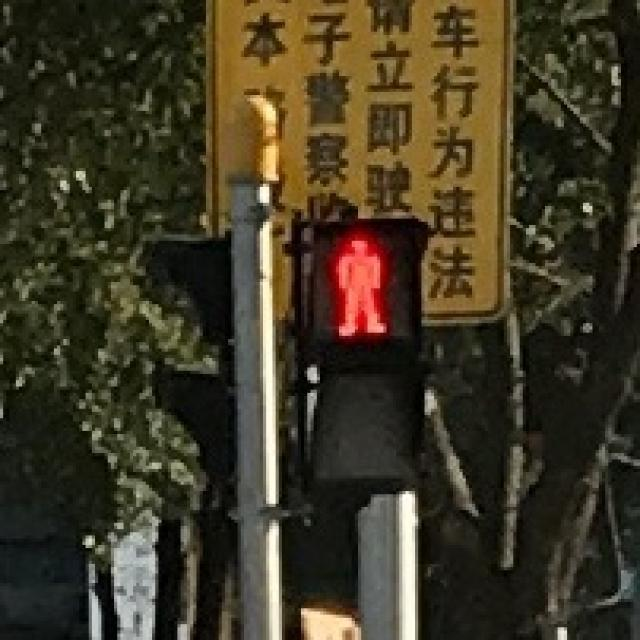red-crossing: (308, 215, 402, 336)
